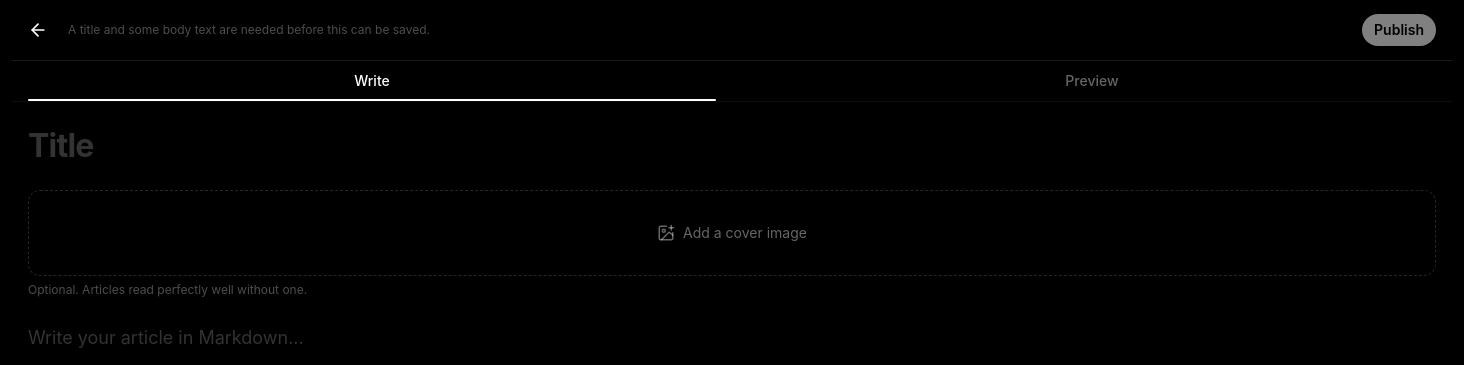
Test: ArticleEditorPage › the preview › says there is nothing to preview yet
Click the button "Preview" at (1092,81), box x1=732 y1=61 x2=1452 y2=101
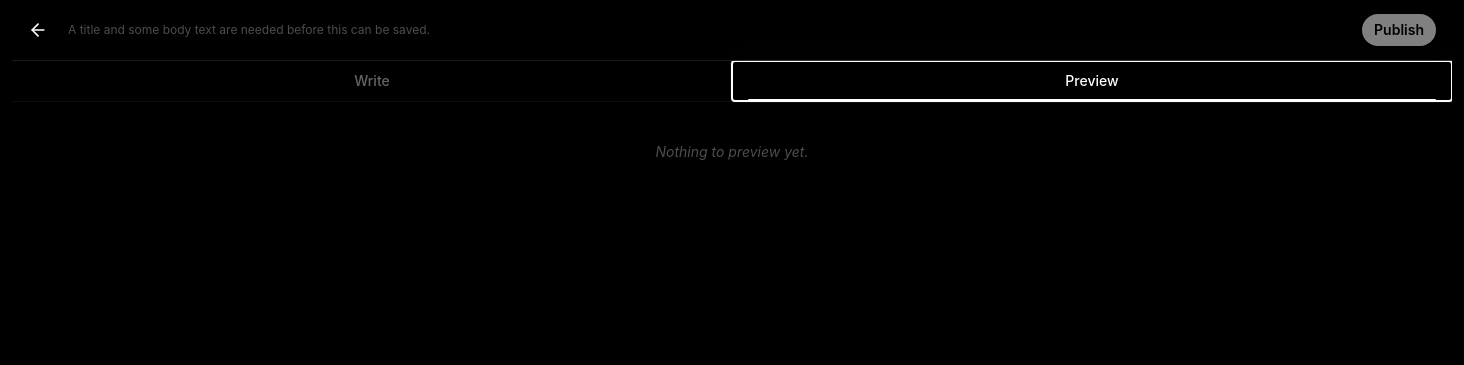
Result: the text "Nothing to preview yet." is shown at x1=656 y1=143 x2=808 y2=160
